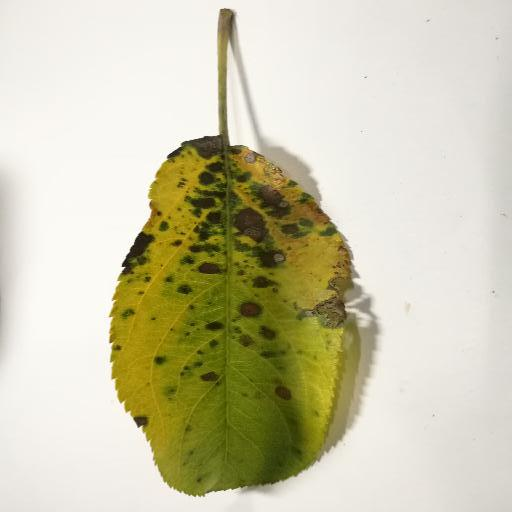Brown_Spot: (115, 127, 352, 278), (308, 282, 349, 336), (266, 384, 305, 410), (238, 299, 260, 317), (204, 366, 222, 384)
